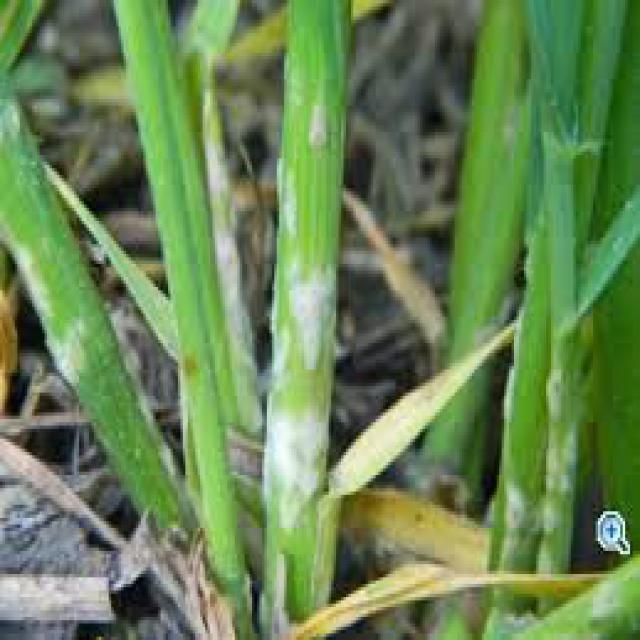wheat-powdery-mildew: (262, 23, 345, 562)
